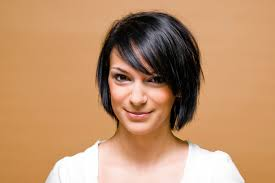white_female: (105, 42, 185, 138)
